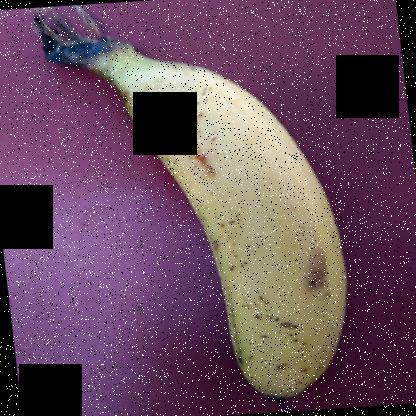ripe: (100, 61, 354, 398)
